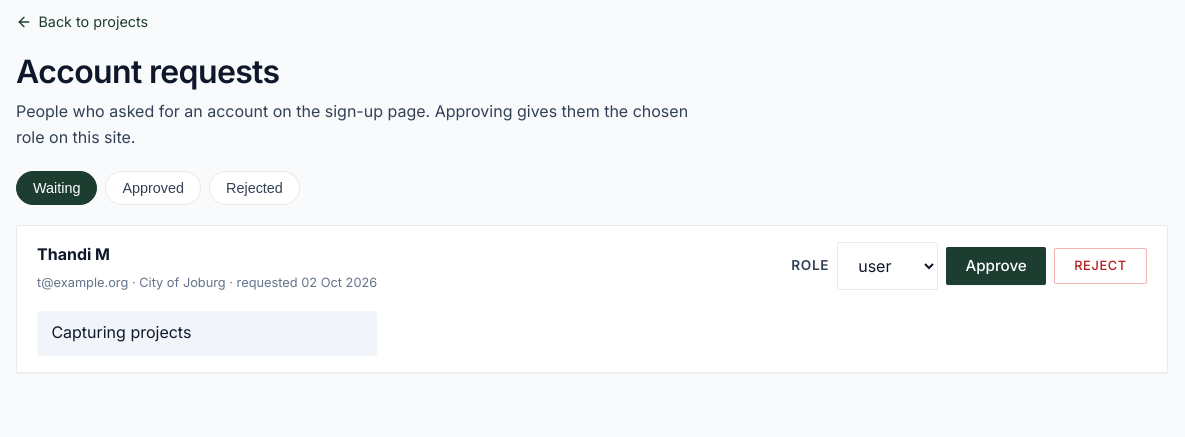
AdminRegistrations › approves with the "user" role by default and removes the request
Expected: the text "Capturing projects" is shown, x1=37 y1=311 x2=377 y2=356
Expected: the dropdown labelled "Role" shows "user", x1=837 y1=242 x2=938 y2=290
Click the button "Approve": {"x": 996, "y": 266} x1=946 y1=246 x2=1046 y2=285
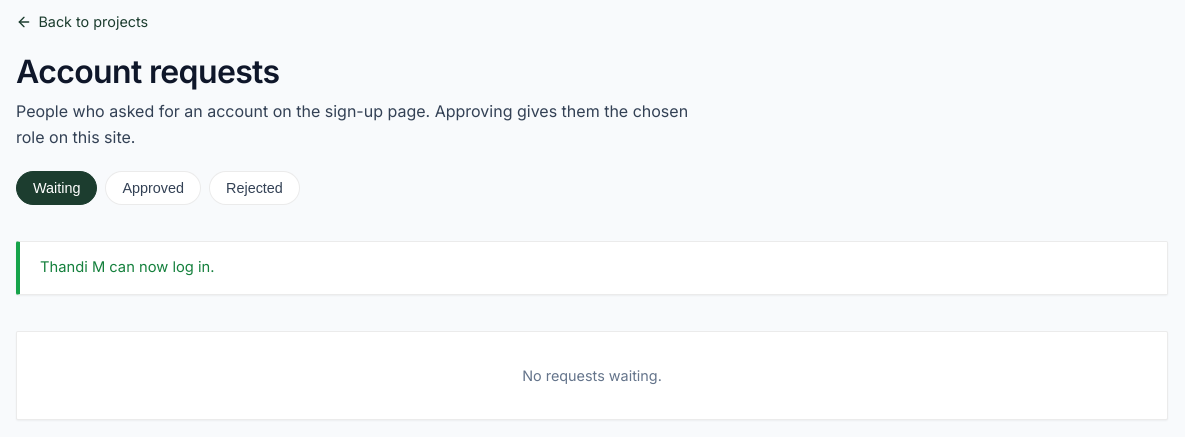
Expected: the message reads "Thandi M can now log in.", x1=40 y1=258 x2=214 y2=276
Expected: the text "Capturing projects" is gone
